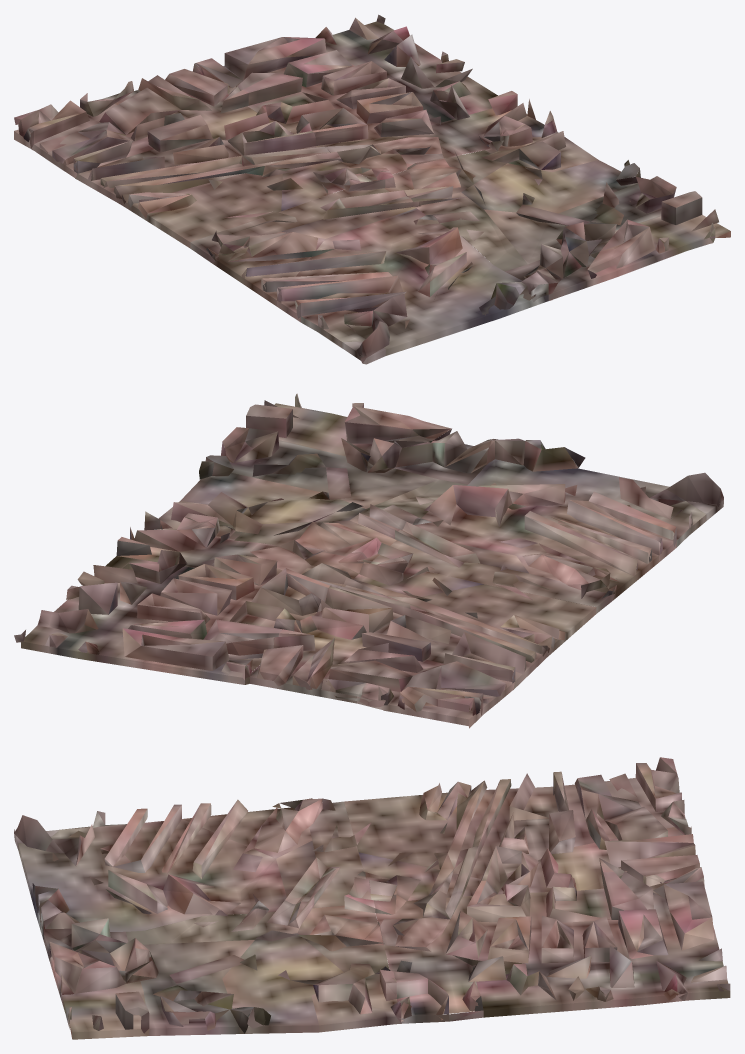
3 renders of one model, top to bottom at view 1: azimuth 30°, elevation 25°; view 2: azimuth 150°, elevation 25°; view 3: azimuth 270°, elevation 25°, orthographic. The views are drawn at different scales.
Visible parts, largest first — view 1: Mesh_0; view 2: Mesh_0; view 3: Mesh_0.
Boxes of the visible parts, <box> form: Mesh_0: <box>14,14,730,364</box>; Mesh_0: <box>14,393,723,728</box>; Mesh_0: <box>14,757,730,1039</box>.
Bounding box in the file's own units: 533 × 59.12 × 660.
2 materials, 2 textured.
